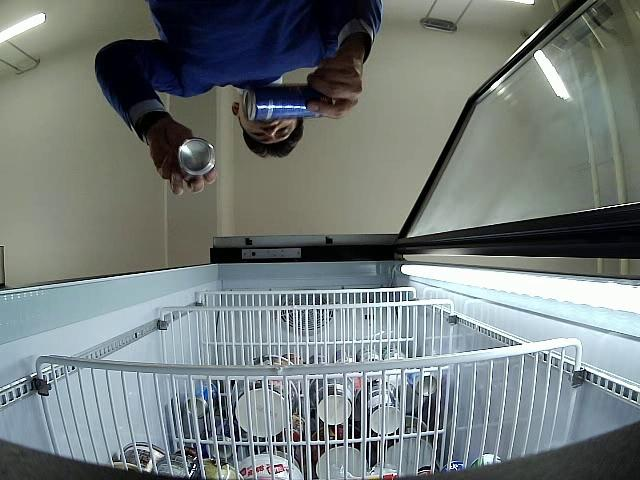00_hand: (151, 128, 217, 196), (307, 57, 363, 120)
16_hot6: (242, 84, 333, 121)
